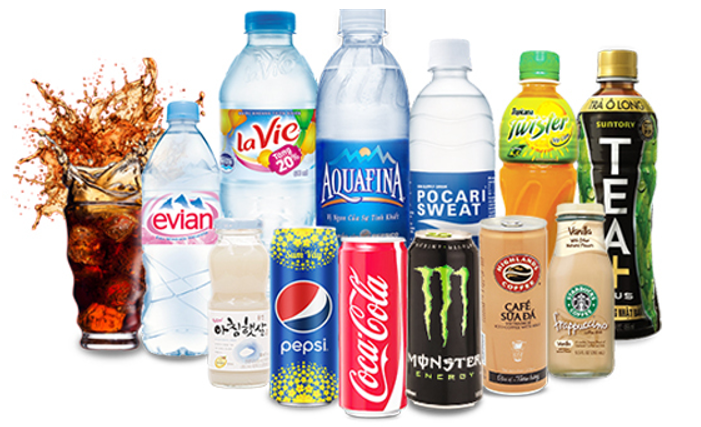aquafina: (321, 160, 403, 206)
cocacola: (346, 264, 391, 406)
evian: (151, 209, 213, 233)
highlandscoffee: (490, 251, 542, 295)
lavie: (235, 117, 299, 151)
monster: (412, 262, 470, 351)
pepsi: (274, 280, 332, 336)
pocarisweat: (416, 190, 487, 218)
starbucks: (563, 284, 599, 319)
teaplus: (603, 133, 632, 253)
tropicana: (509, 107, 535, 118)
